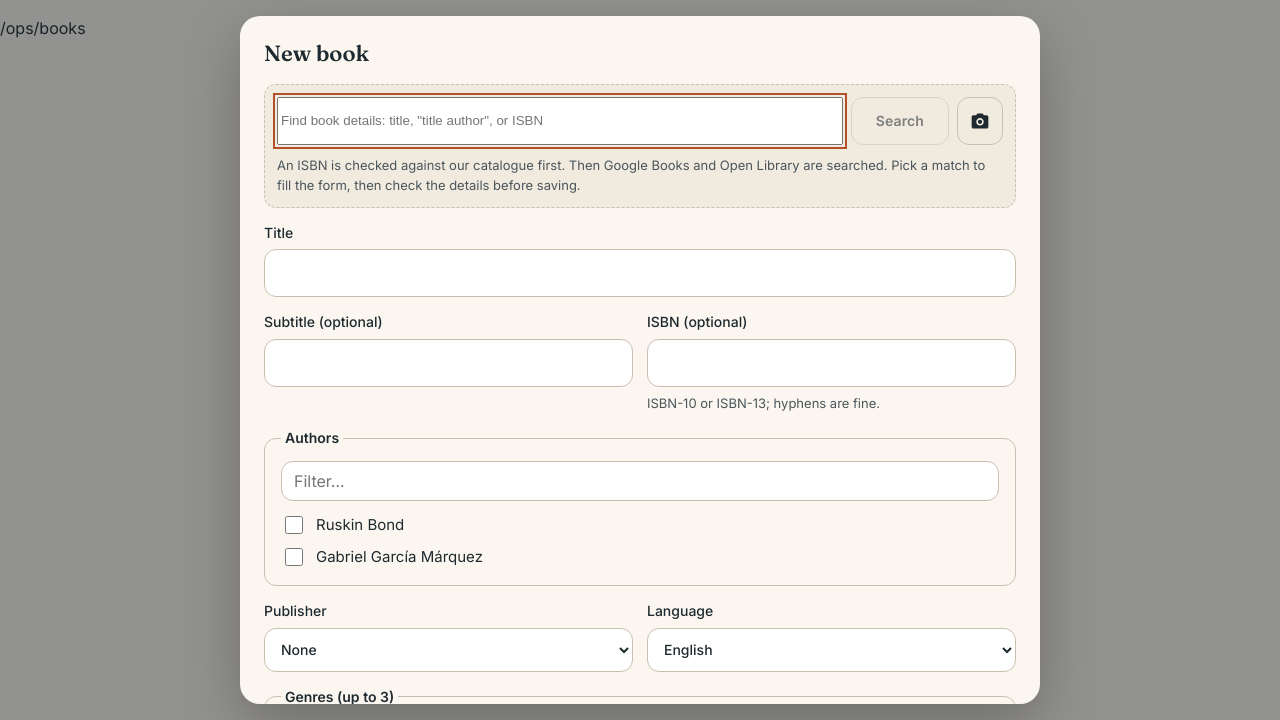
Scenario: New book: find book details › looks a new ISBN up outside and fills the untouched form with its one match, sending no command
Check: the checkbox labelled "Ruskin Bond" is shown, box [285,516,303,534]
Type "9780306406157" into the search field labelled "Find book details" at (560, 120), box [277,96,843,144]
Then press Enter
(page scrolled)
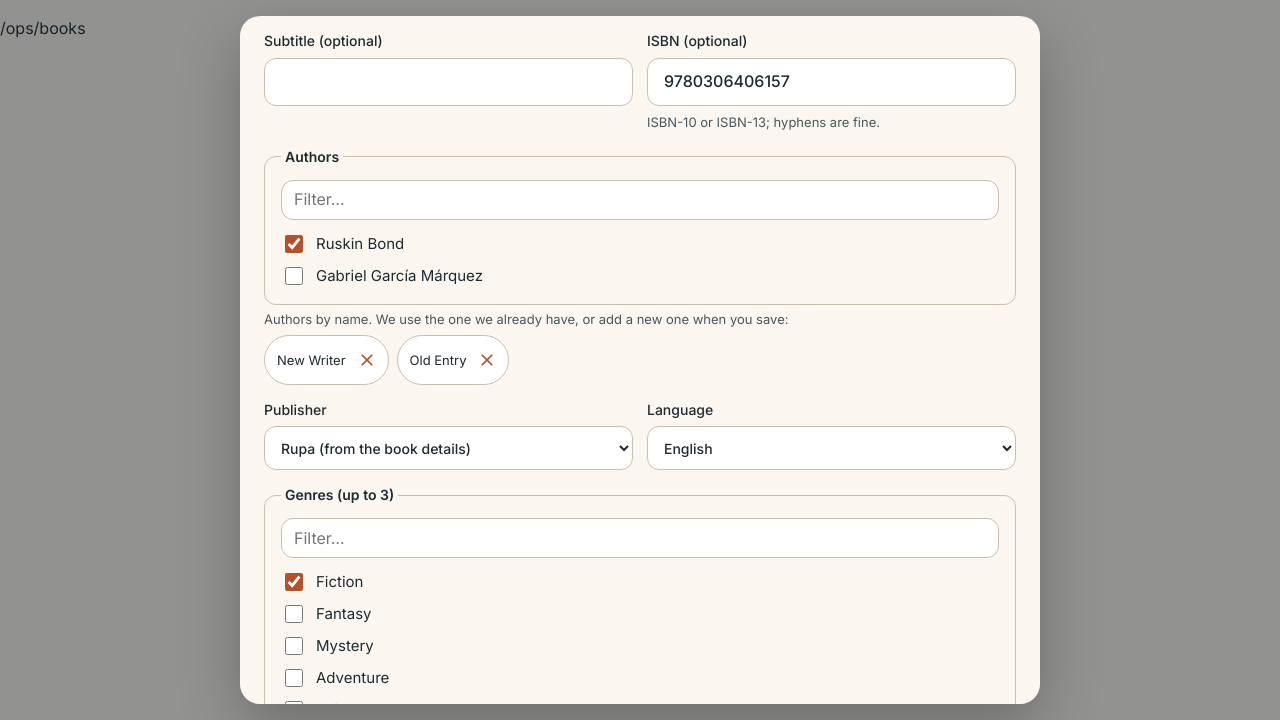
Check: the field labelled "ISBN (optional)" holds "9780306406157", box [647,58,1016,106]
Check: the checkbox labelled "Ruskin Bond" is checked, box [285,235,303,253]
Click the button named "Remove Old Entry" at (487, 360), box [468,336,506,384]
(page scrolled)
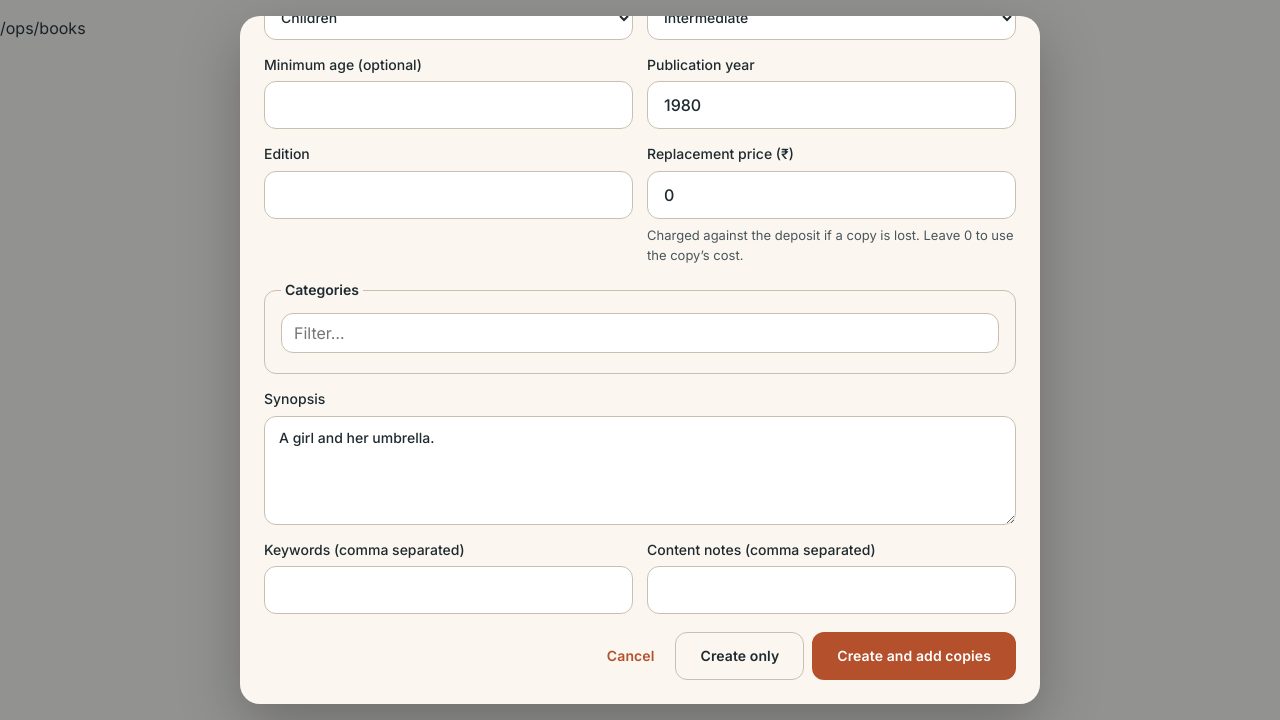
Click the button "Create and add copies" at (914, 656), box [812,632,1016,680]
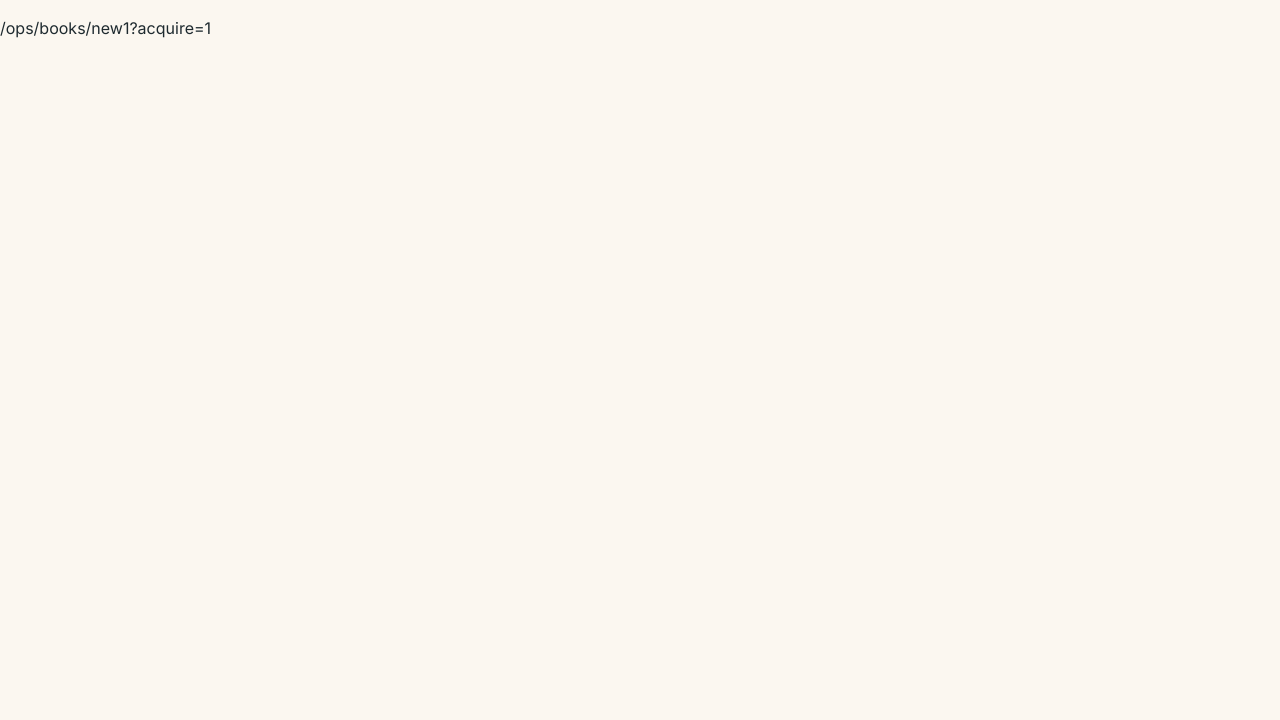
Check: the text with test id "where" reads "/ops/books/new1?acquire=1", box [0,18,211,38]
